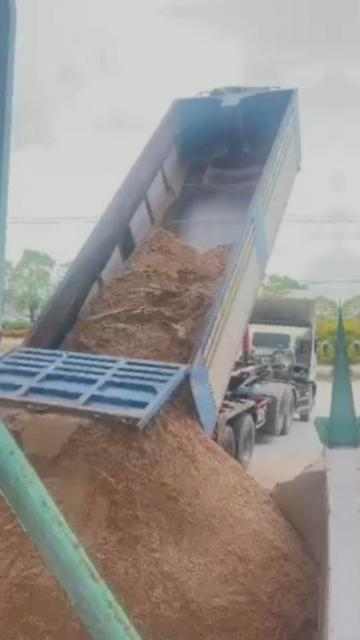sand: (7, 399, 314, 640), (63, 229, 230, 361), (0, 478, 118, 640), (271, 456, 328, 565)
